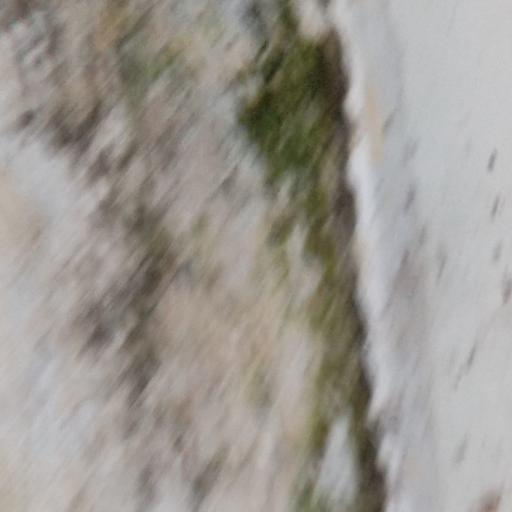algae: (0, 0, 420, 506)
